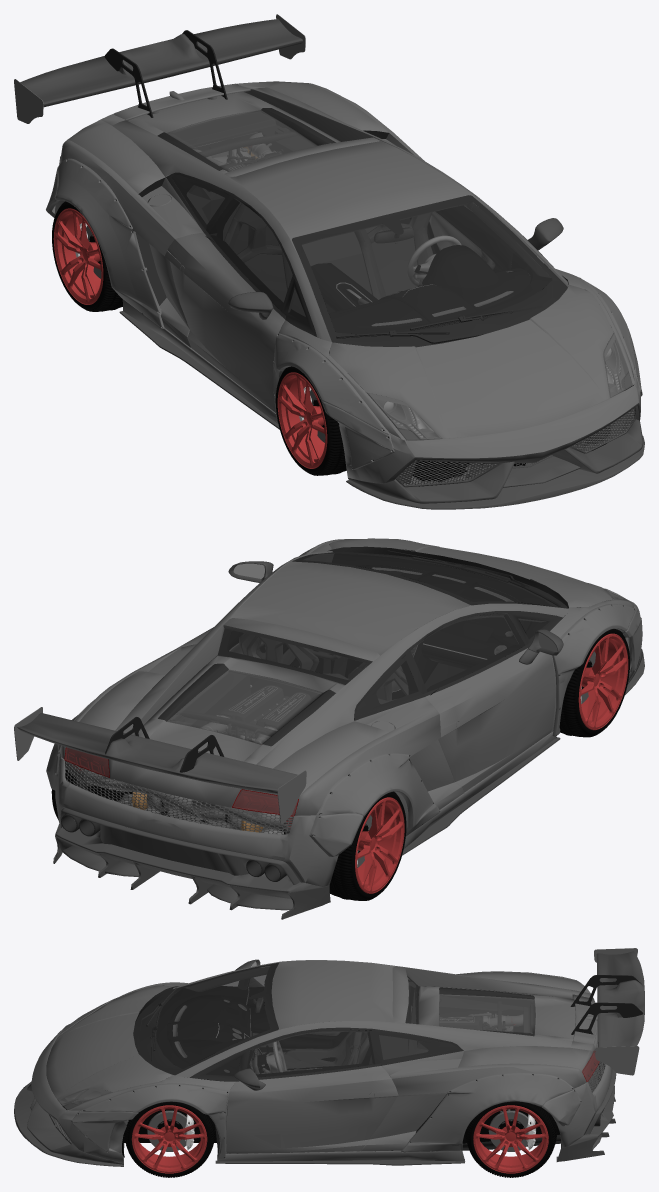
Rendered from lamborghini-gallardo-lp560.glb.
3 renders of one model, top to bottom at view 1: azimuth 30°, elevation 25°; view 2: azimuth 150°, elevation 25°; view 3: azimuth 270°, elevation 25°, orthographic. The views are drawn at different scales.
Visible parts, largest first — view 1: gallardo_body, gallardo_hood_b, gallardo_windshield_tinted, gallardo_bumper_F_LW, gallardo_spoiler_LW2, gallardo_door_R, gallardo_dash, gallardo_tailgate, gallardo_fenderflare_RR, gallardo_fenderflare_FR, gallardo_doorglass_R_tinted, gallardo_seat_FL_sl (+22 smaller); view 2: gallardo_body, gallardo_tailgate, gallardo_bumper_R_LW_diffuser, gallardo_door_R, gallardo_spoiler_LW2, gallardo_bumper_R_LW, gallardo_fenderflare_RR, gallardo_dash, gallardo_doorglass_R_tinted, gallardo_windshield_tinted, gallardo_fenderflare_FR, gallardo_hood_b (+23 smaller); view 3: gallardo_body, gallardo_door_L, gallardo_hood_b, gallardo_windshield_tinted, gallardo_tailgate, gallardo_fenderflare_RL, gallardo_spoiler_LW2, gallardo_dash, gallardo_doorglass_L_tinted, gallardo_fenderflare_FL, gallardo_bumper_F_LW, gallardo_wheel_02a_19x11 (+21 smaller).
Part boxes in pixels (x1,y1,x2,y2): gallardo_body: [60, 81, 633, 423]; gallardo_hood_b: [329, 284, 613, 438]; gallardo_windshield_tinted: [301, 202, 552, 334]; gallardo_bumper_F_LW: [338, 373, 643, 503]; gallardo_spoiler_LW2: [14, 14, 305, 123]; gallardo_door_R: [164, 230, 285, 412]; gallardo_dash: [311, 245, 530, 328]; gallardo_tailgate: [127, 92, 340, 173]; gallardo_fenderflare_RR: [46, 158, 164, 329]; gallardo_fenderflare_FR: [273, 333, 394, 469]; gallardo_doorglass_R_tinted: [209, 197, 292, 310]; gallardo_seat_FL_sl: [354, 212, 432, 299]; gallardo_body: [60, 544, 625, 848]; gallardo_tailgate: [134, 655, 345, 764]; gallardo_bumper_R_LW_diffuser: [53, 808, 330, 919]; gallardo_door_R: [423, 643, 555, 792]; gallardo_spoiler_LW2: [14, 707, 306, 824]; gallardo_bumper_R_LW: [55, 753, 338, 886]; gallardo_fenderflare_RR: [309, 753, 440, 856]; gallardo_dash: [356, 565, 530, 699]; gallardo_doorglass_R_tinted: [411, 613, 525, 691]; gallardo_windshield_tinted: [302, 553, 551, 606]; gallardo_fenderflare_FR: [552, 604, 642, 736]; gallardo_hood_b: [330, 538, 613, 607]; gallardo_body: [62, 960, 597, 1161]; gallardo_door_L: [226, 1063, 398, 1153]; gallardo_hood_b: [46, 985, 172, 1099]; gallardo_windshield_tinted: [156, 966, 270, 1068]; gallardo_tailgate: [418, 986, 575, 1041]; gallardo_fenderflare_RL: [401, 1073, 581, 1152]; gallardo_spoiler_LW2: [570, 948, 644, 1075]; gallardo_dash: [167, 995, 371, 1080]; gallardo_doorglass_L_tinted: [247, 1029, 374, 1077]; gallardo_fenderflare_FL: [71, 1083, 228, 1158]; gallardo_bumper_F_LW: [27, 1024, 128, 1164]; gallardo_wheel_02a_19x11: [131, 1105, 207, 1173].
Size of what is drawn, in the model's own units: 2.18 by 1.14 by 4.72.
